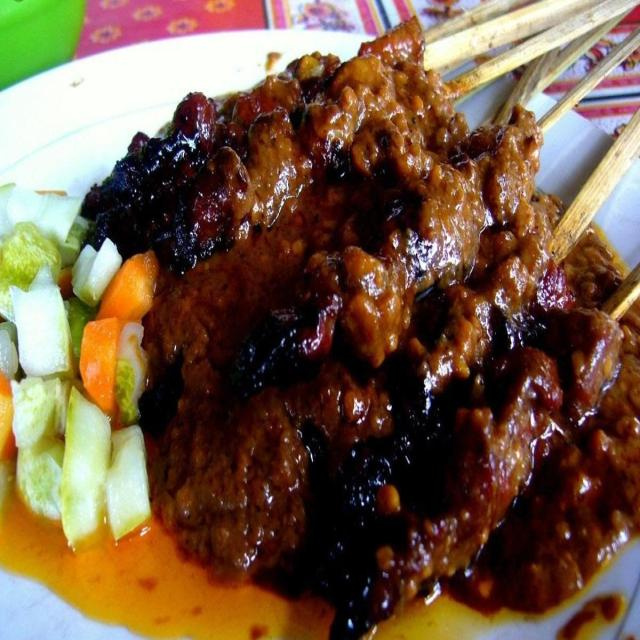Sate: (119, 0, 620, 549)
